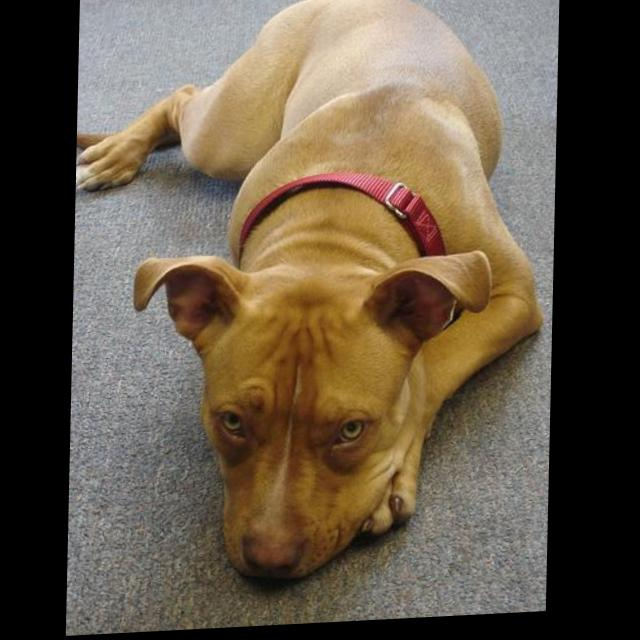amstaff: (71, 1, 554, 595)
